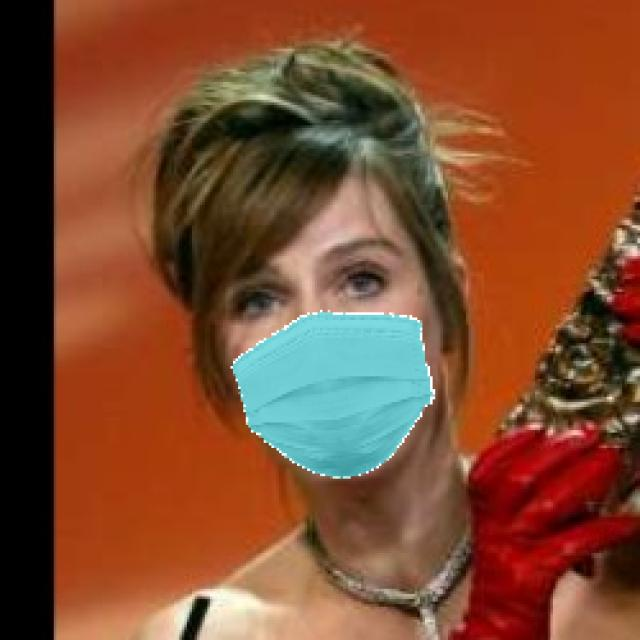mask: (226, 316, 451, 483)
